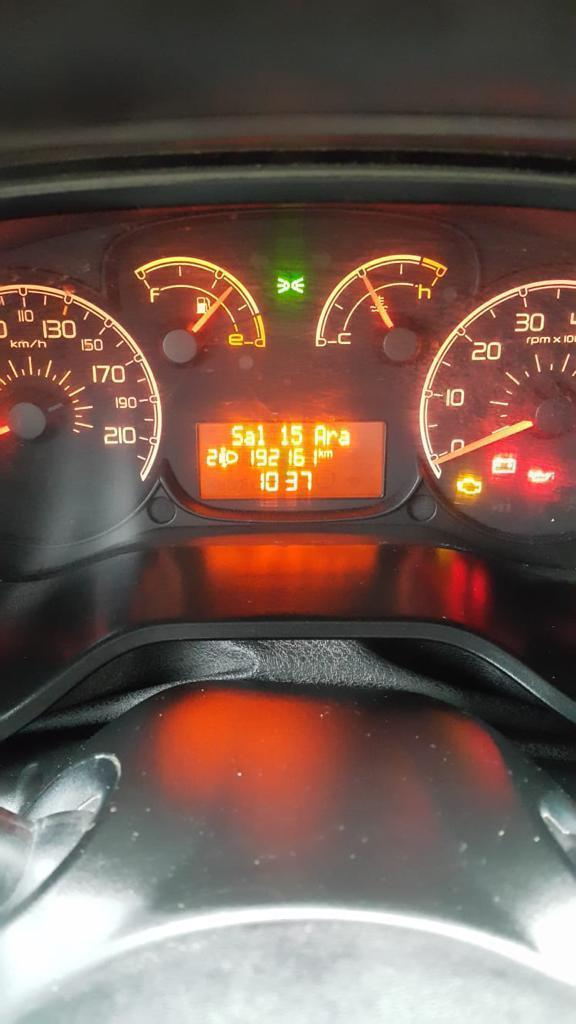0: (265, 471, 278, 492)
1: (280, 423, 288, 445), (259, 470, 265, 493), (287, 447, 292, 466), (250, 447, 255, 466), (312, 448, 317, 467)
2: (206, 447, 218, 466), (268, 448, 280, 466)
3: (283, 469, 297, 492)
5: (291, 424, 303, 445)
6: (293, 447, 304, 466)
7: (301, 469, 312, 492)
9: (256, 447, 267, 466)
X: (231, 423, 243, 445), (313, 425, 325, 445), (338, 427, 350, 446), (257, 423, 267, 444), (244, 430, 255, 445), (326, 430, 336, 445), (324, 449, 333, 458), (317, 446, 323, 457)
odometer: (194, 419, 389, 499)
